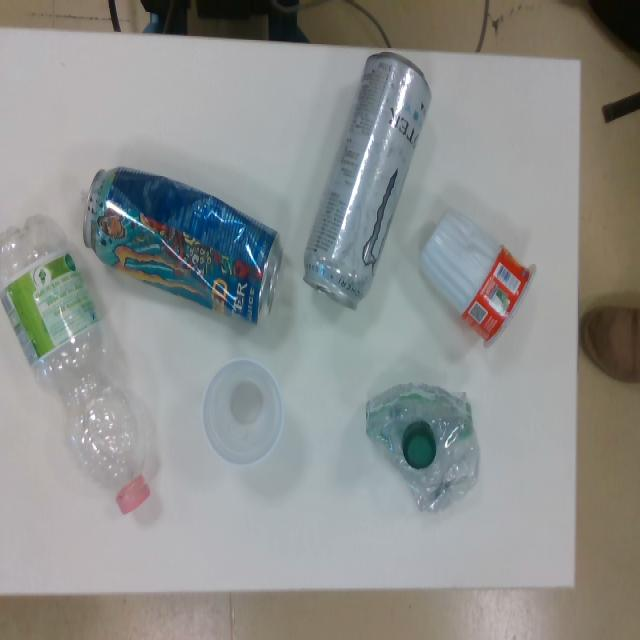aluminum: (302, 49, 436, 312), (81, 167, 285, 326)
plastic: (0, 217, 152, 511), (419, 206, 540, 346), (363, 380, 478, 518), (199, 354, 288, 469)
